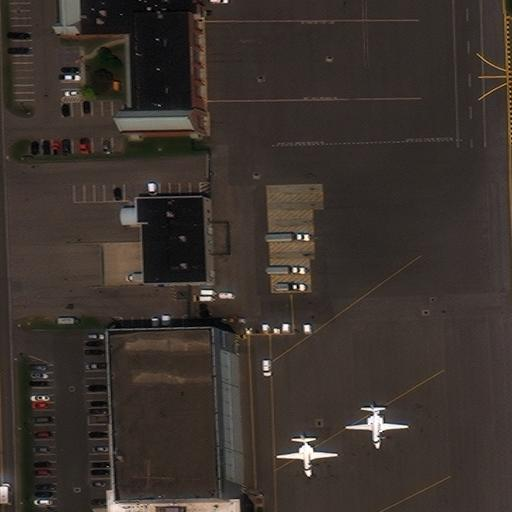Medium Civil Transport: (344, 404, 408, 449), (277, 433, 336, 476)
